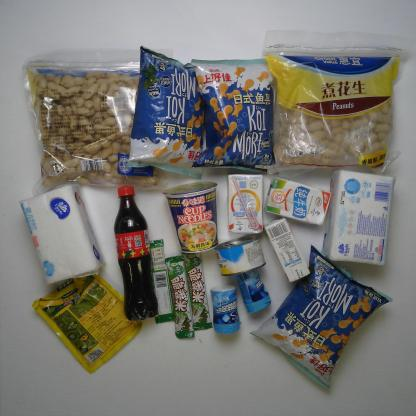Canned Food: (213, 234, 266, 277)
Chocolate: (164, 255, 195, 341), (181, 251, 213, 332), (149, 239, 175, 324)
Dried Food: (20, 46, 176, 198), (260, 28, 414, 177)
Drink: (113, 185, 159, 323)
Gum: (234, 267, 272, 315), (209, 284, 242, 335)
Instant Noodles: (162, 180, 219, 255)
Milk: (264, 176, 332, 226), (262, 216, 311, 284), (226, 173, 265, 234)
Puffed Food: (249, 242, 395, 392), (124, 44, 205, 180), (190, 57, 280, 176)
Seasoner: (30, 269, 143, 376)
Tissue: (19, 181, 108, 287), (322, 168, 397, 266)
